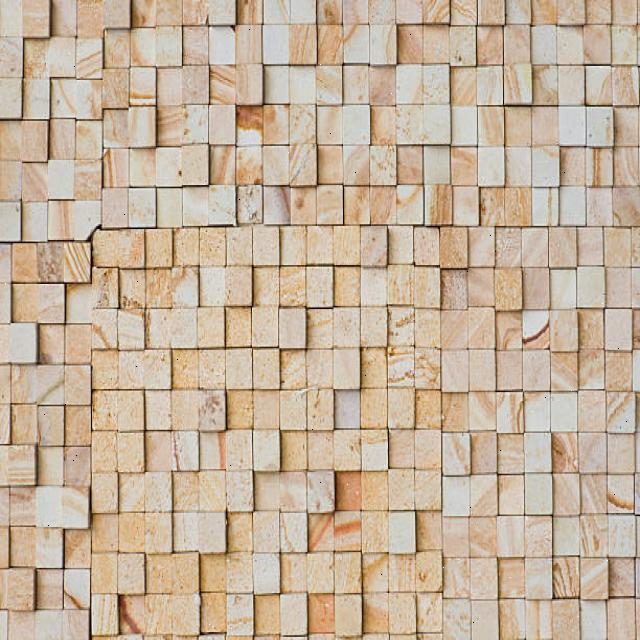Metamorphic: (1, 1, 636, 637)
